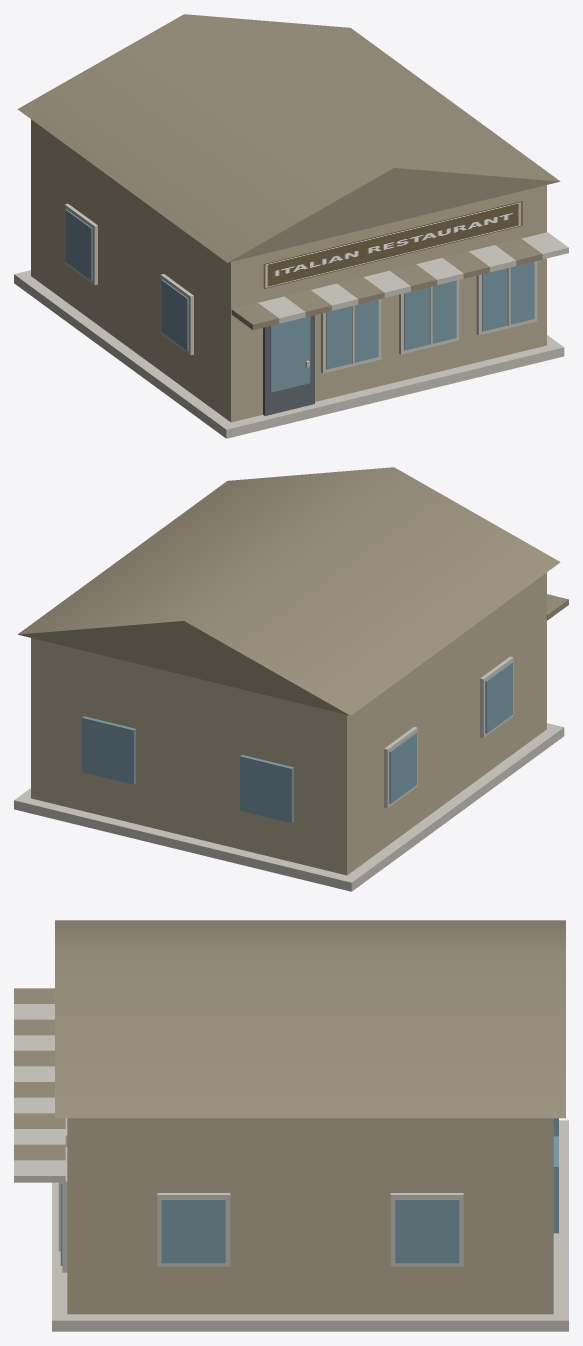
The model's file is italian_restaurant.glb.
3 renders of one model, top to bottom at view 1: azimuth 30°, elevation 25°; view 2: azimuth 150°, elevation 25°; view 3: azimuth 270°, elevation 25°, orthographic. The views are drawn at different scales.
Visible parts, largest first — view 1: world; view 2: world; view 3: world.
Boxes of the visible parts, box(x1,y1,x2,y2) form: world: box(14, 14, 568, 438); world: box(14, 467, 568, 891); world: box(14, 920, 568, 1331).
Bounding box in the file's own units: 7.8 × 5.05 × 9.12.
2 materials, 1 textured.
